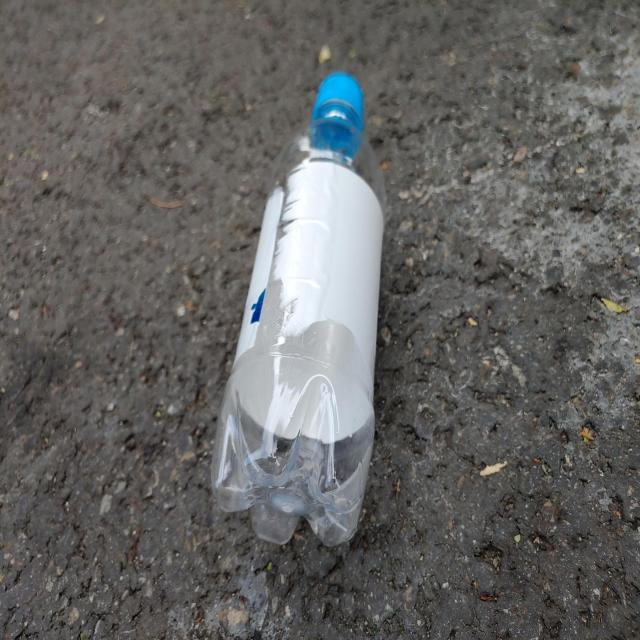plastic: (211, 72, 386, 547)
